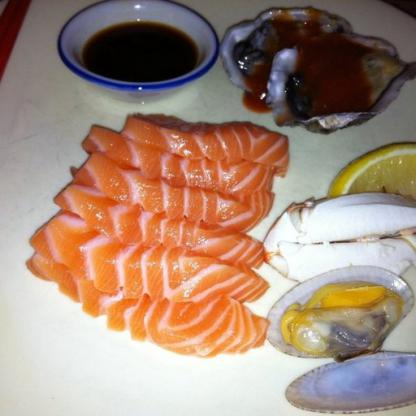salmon: (34, 116, 283, 359)
